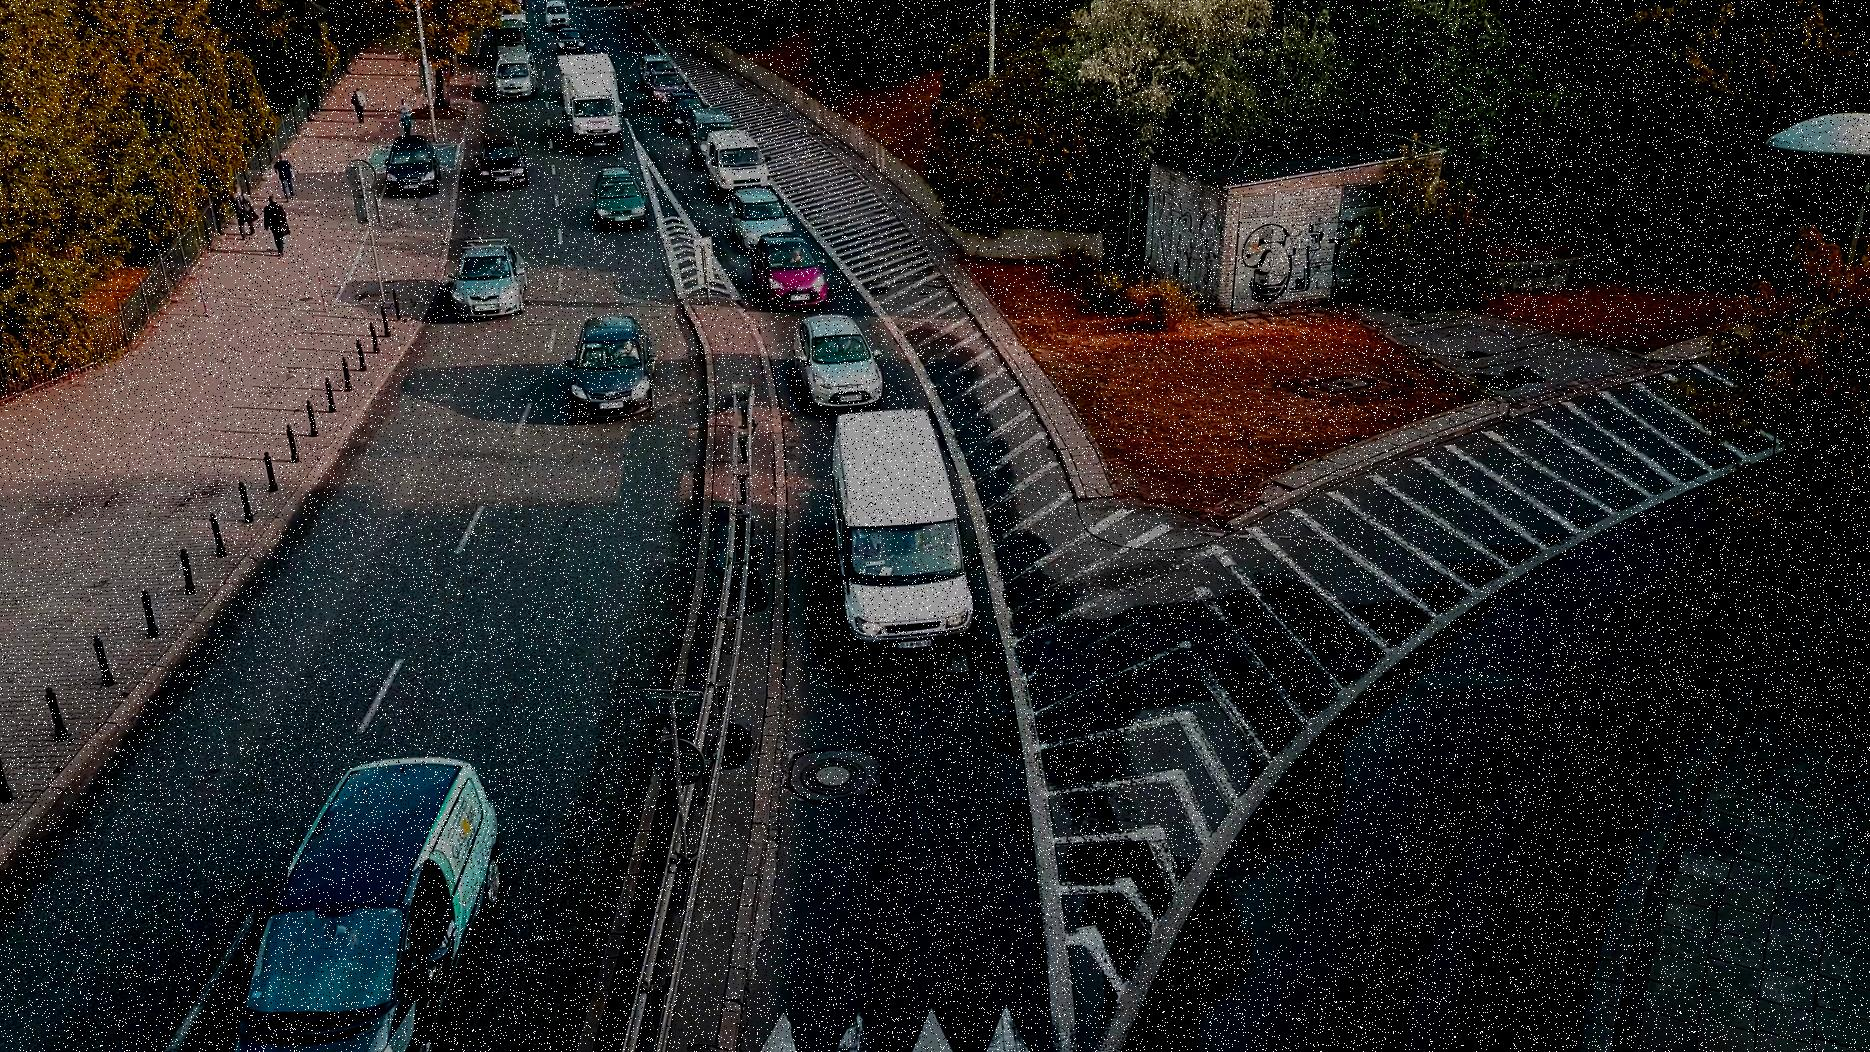car: (202, 739, 524, 1052), (818, 396, 984, 642), (565, 298, 665, 428), (789, 306, 885, 407), (446, 231, 539, 324), (747, 227, 831, 315), (383, 122, 441, 207), (587, 163, 649, 235), (705, 123, 771, 190), (728, 186, 787, 247), (474, 131, 525, 193), (661, 83, 712, 140), (491, 44, 529, 96)
truck: (554, 44, 632, 150)
